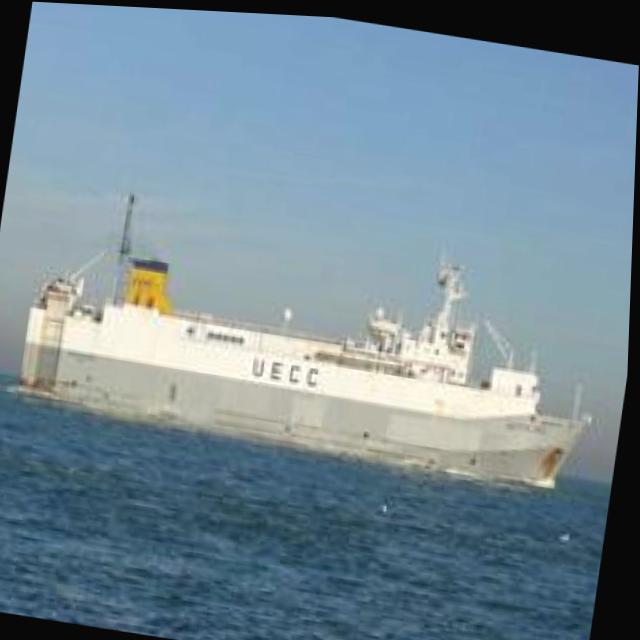ship2: (18, 190, 596, 484)
